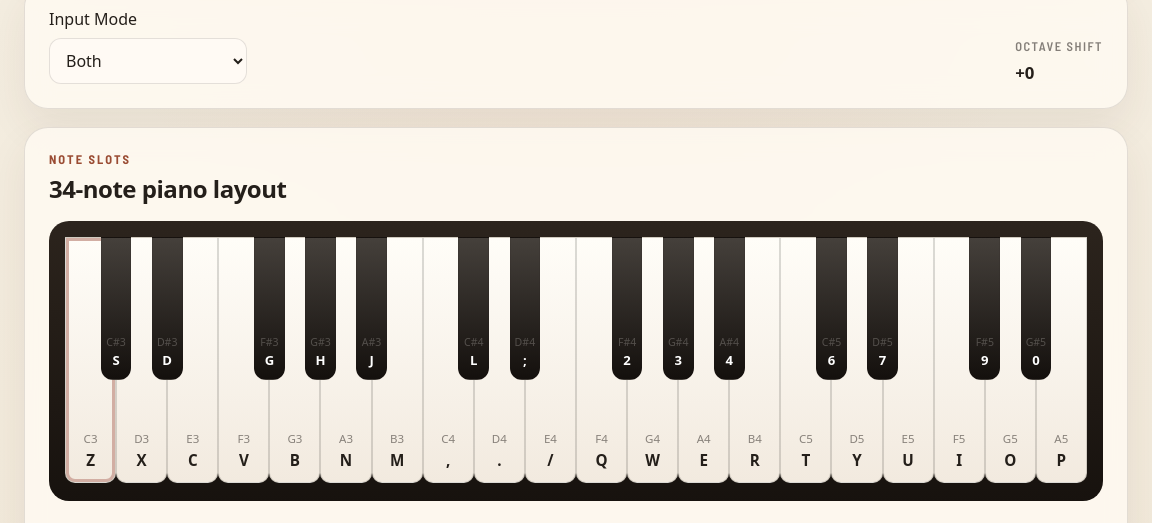
Test: KeyboardSetupScreen › enters capture mode when a mapped piano key is clicked
(page scrolled)
Step 1. Click the button named "Bind C3 to Z" → (91, 360), box [65,237,116,483]
(page scrolled)
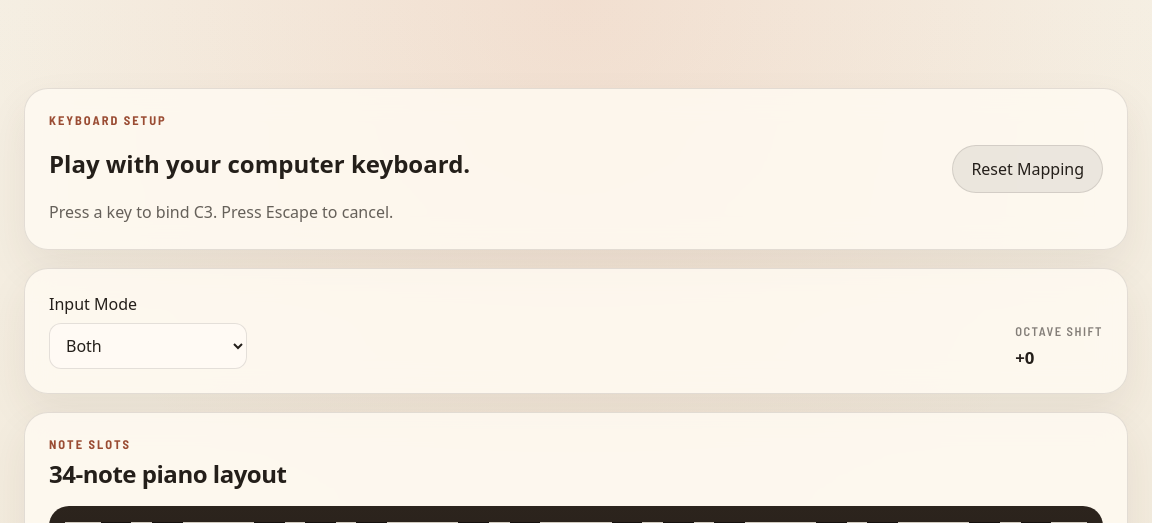
Result: the text "Press a key to bind C3. Press Escape to cancel." is shown at [49,201,393,223]
